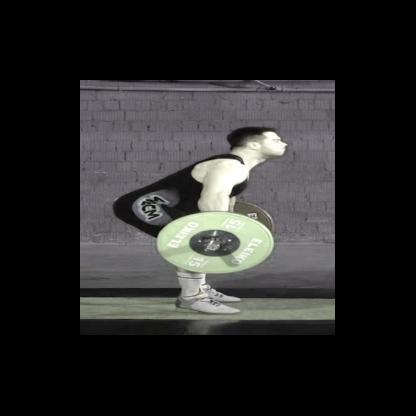barbell: (156, 211, 274, 274)
